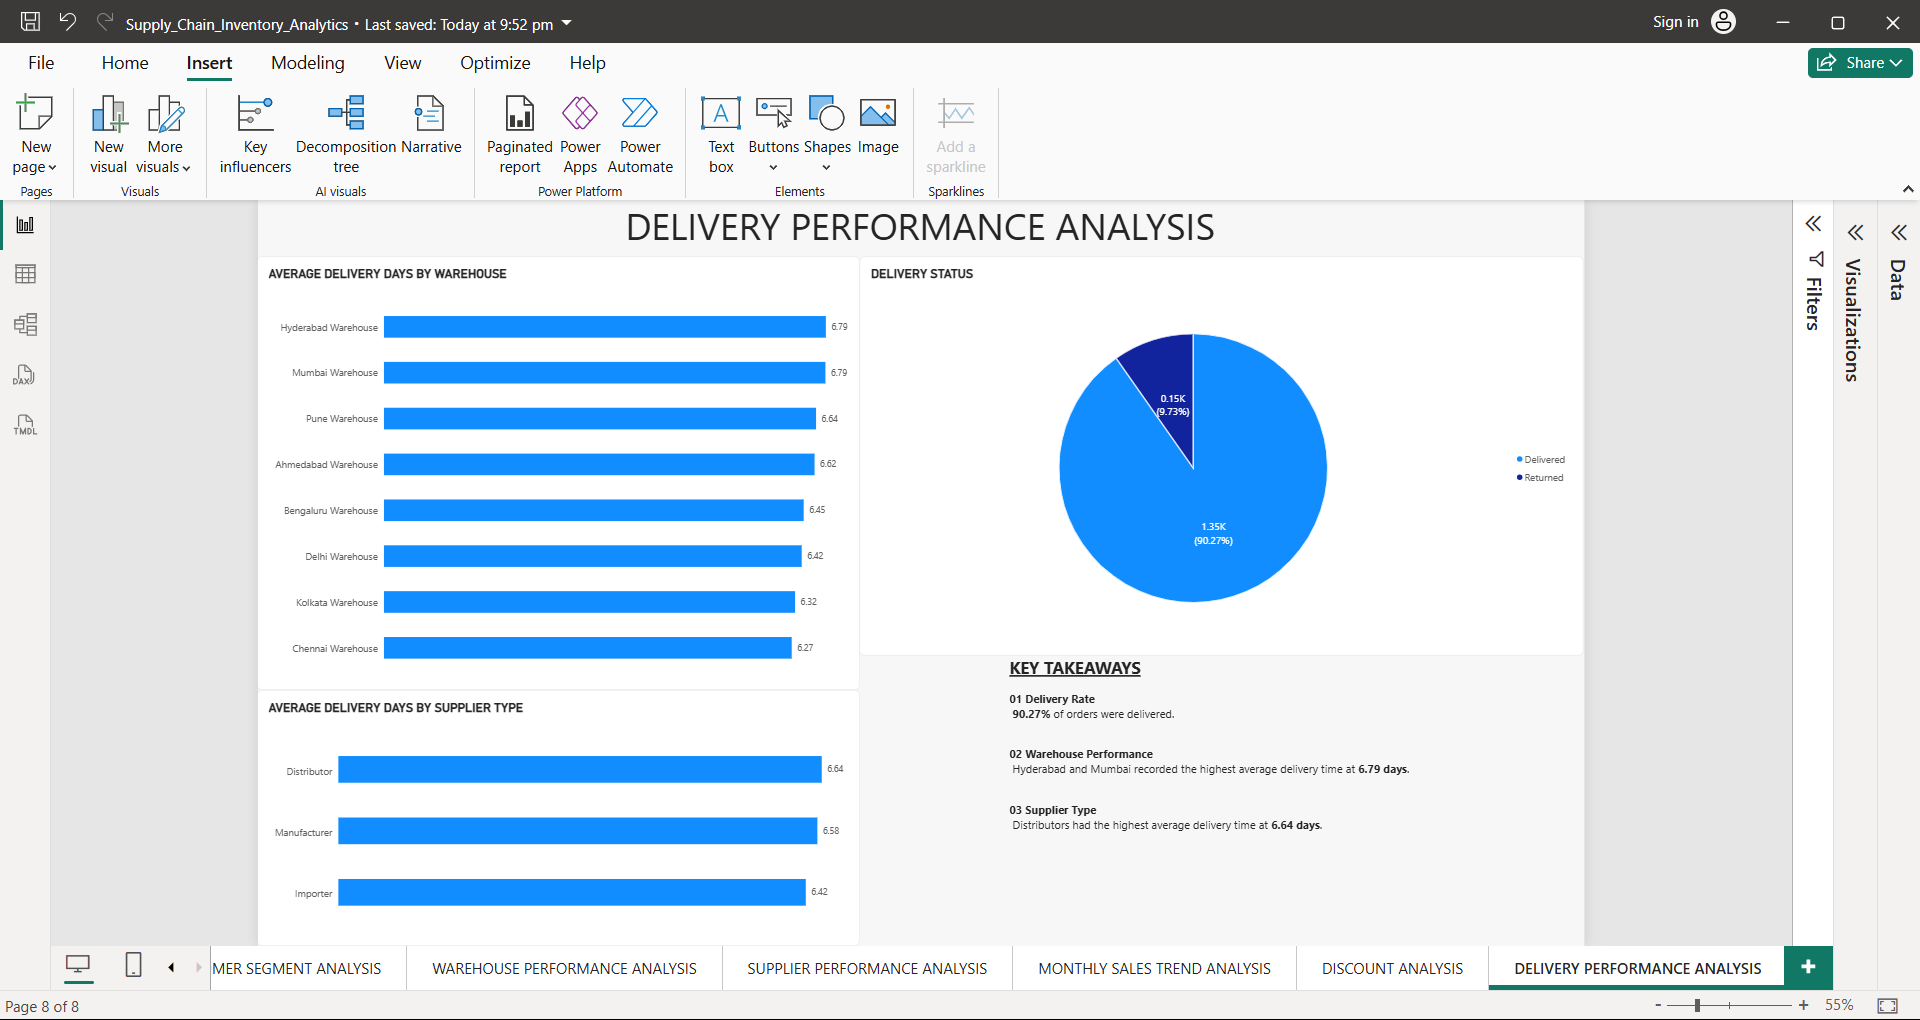

Layout of this report page (visuals, bound fields, positions):
{"tool":"powerbi","page":{"name":"DELIVERY PERFORMANCE ANALYSIS","canvas":[1920,1080],"ordinal":7},"visuals":[{"type":"textbox","box":[0,0,1920.4,82.3],"z":0},{"type":"clusteredBarChart","title":"AVERAGE DELIVERY DAYS BY WAREHOUSE","fields":{"Category":["Warehouse.WarehouseName"],"Y":["Avg(Orders.DeliveryDays)"]},"box":[0,82.3,872.7,627.8],"z":1},{"type":"clusteredBarChart","title":"AVERAGE DELIVERY DAYS BY SUPPLIER TYPE","fields":{"Category":["Supplier.SupplierType"],"Y":["Avg(Orders.DeliveryDays)"]},"box":[0,710.1,872.7,370.5],"z":2},{"type":"pieChart","title":"DELIVERY  STATUS","fields":{"Category":["Orders.Delivery Status"],"Y":["CountNonNull(Orders.OrderID)"]},"box":[872.7,82.3,1047.7,578.4],"z":3},{"type":"textbox","box":[1088.9,660.7,831.6,419.9],"z":4}]}

Visuals, with their boxes on the page's 1920x1080 design canvas (x1, y1, x2, y2). These are canvas units, not pixel positions in the 1920x1020 screenshot, which may show the page scaled, cropped or inside an application window:
textbox: bbox(0, 0, 1920, 82)
"AVERAGE DELIVERY DAYS BY WAREHOUSE" clusteredBarChart: bbox(0, 82, 873, 710)
"AVERAGE DELIVERY DAYS BY SUPPLIER TYPE" clusteredBarChart: bbox(0, 710, 873, 1081)
"DELIVERY  STATUS" pieChart: bbox(873, 82, 1920, 661)
textbox: bbox(1089, 661, 1920, 1081)
